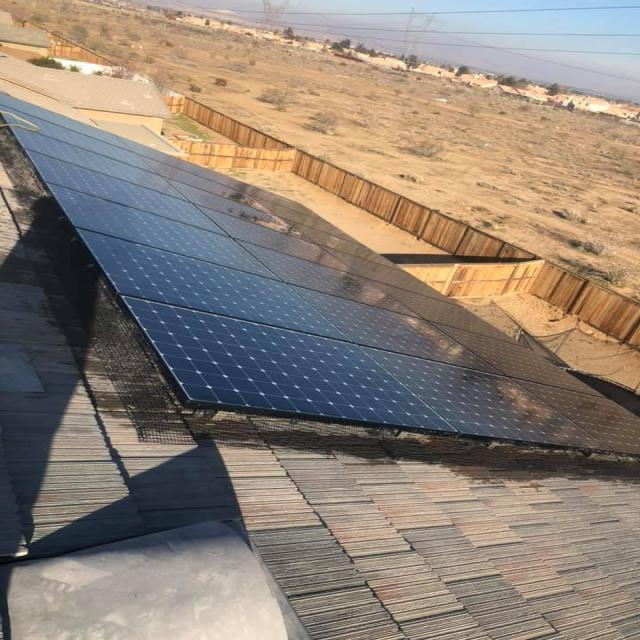clean-solar-panel: (0, 97, 638, 455)
